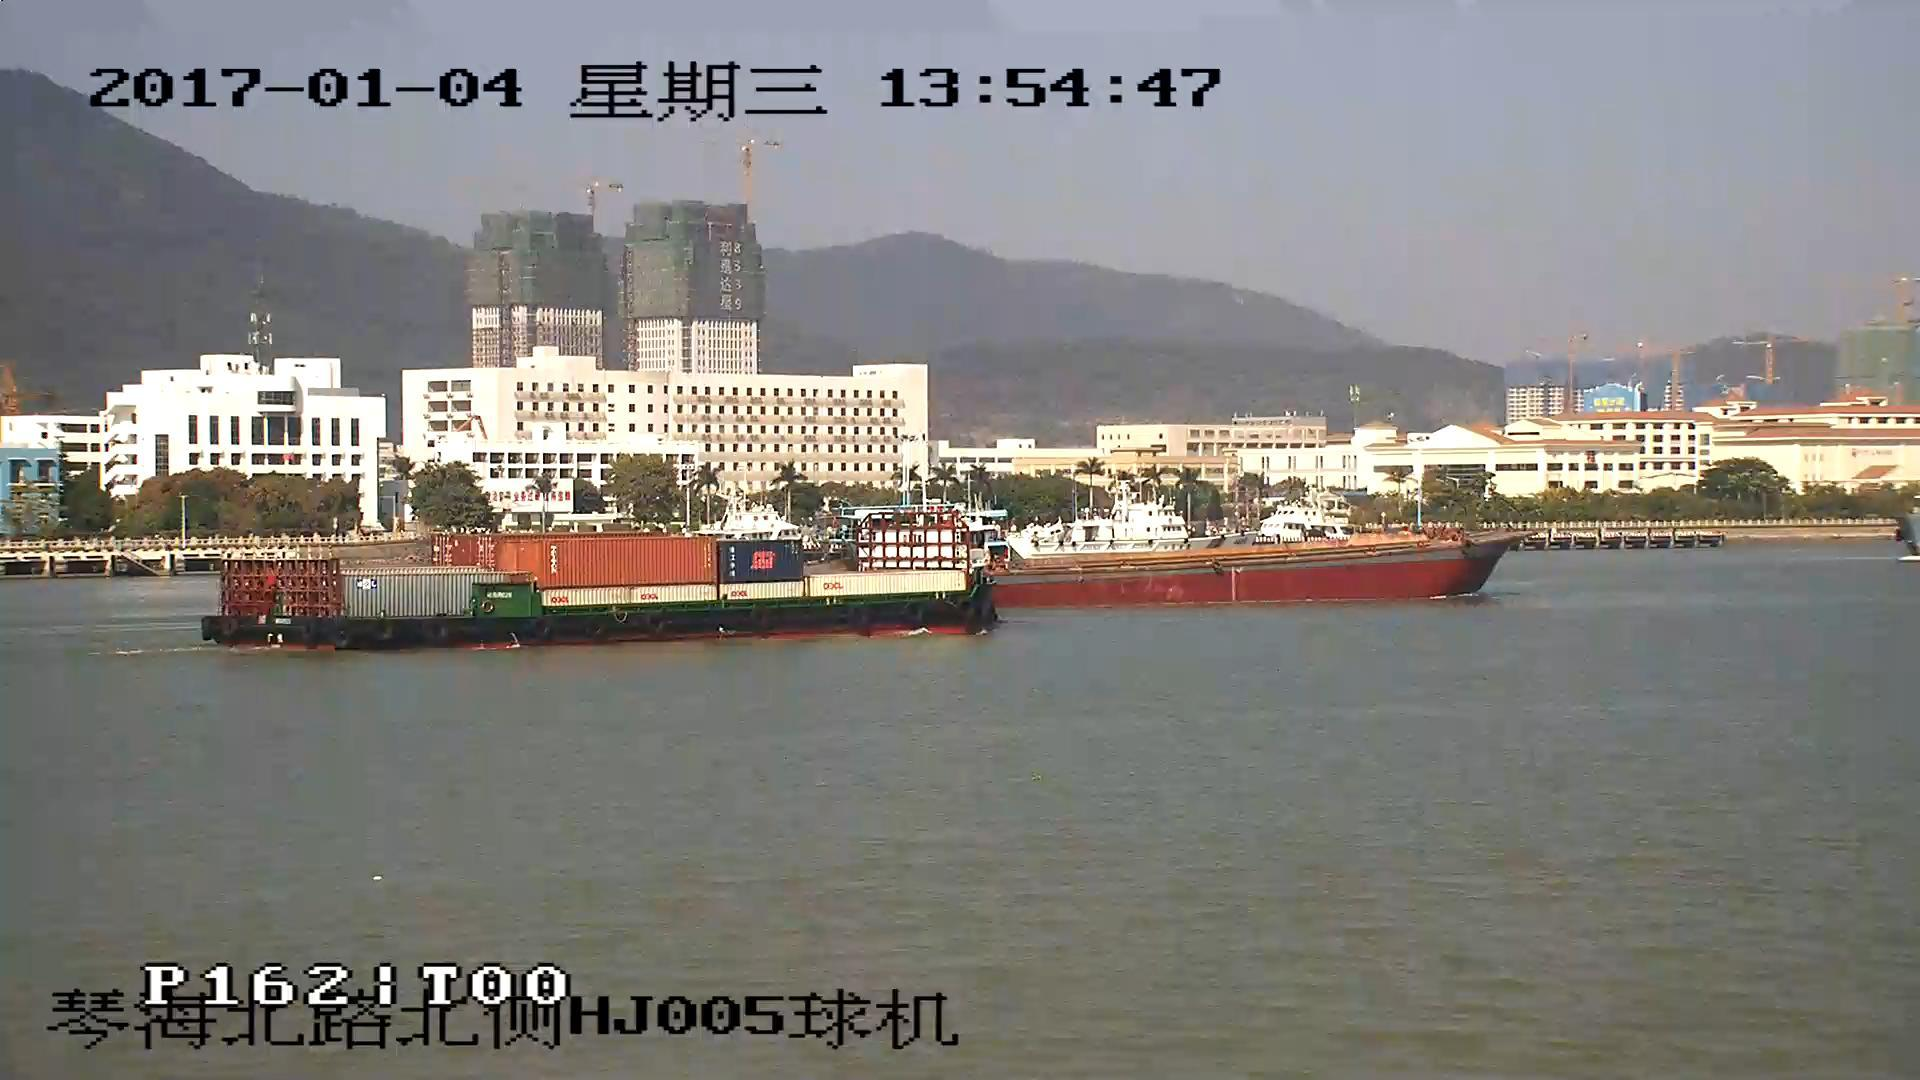Ship: (204, 513, 1013, 650), (1015, 530, 1531, 607)
